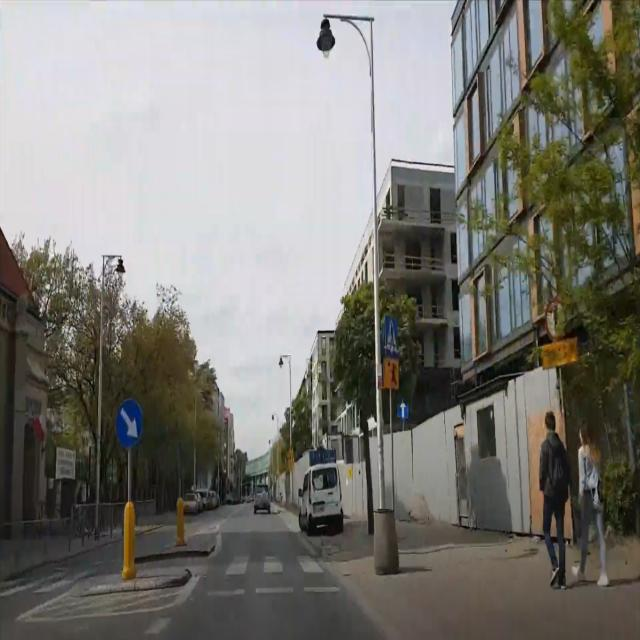Przejscie dla pieszych: (386, 316, 398, 354)
